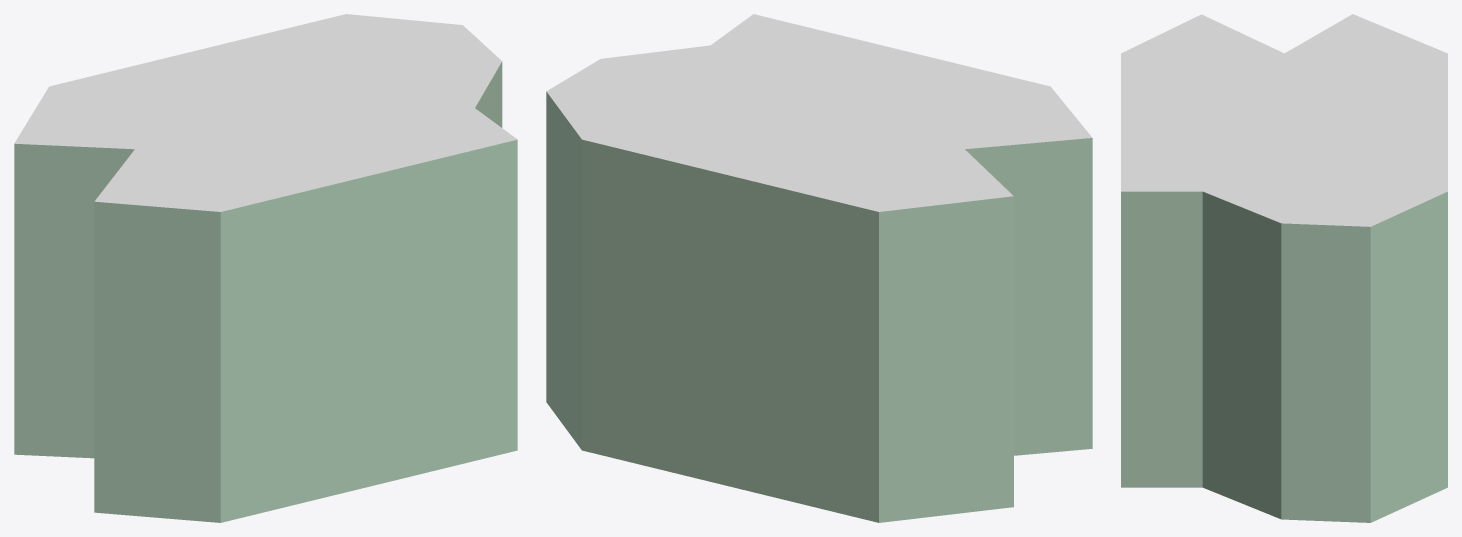
File: smallHole.fbx
The picture shows the model from 3 angles, left to right: view 1: azimuth 30°, elevation 25°; view 2: azimuth 150°, elevation 25°; view 3: azimuth 270°, elevation 25°; orthographic projection. The views are drawn at different scales.
Parts seen in each view (by area): view 1: Hole; view 2: Hole; view 3: Hole.
Part boxes in pixels (x1,y1,x2,y2): Hole: [14, 14, 517, 522]; Hole: [546, 14, 1092, 522]; Hole: [1121, 14, 1447, 522].
Size of the model in its own units: 283 by 184 by 184.
